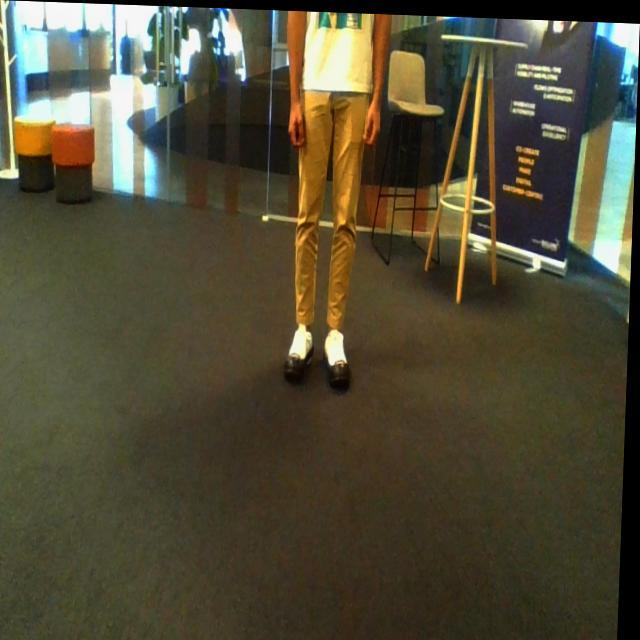shoes: (318, 325, 358, 383), (286, 323, 317, 383)
